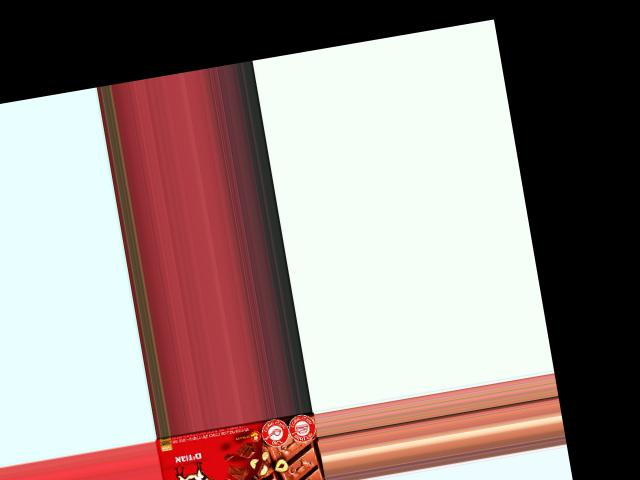chocolate: (154, 413, 325, 480)
